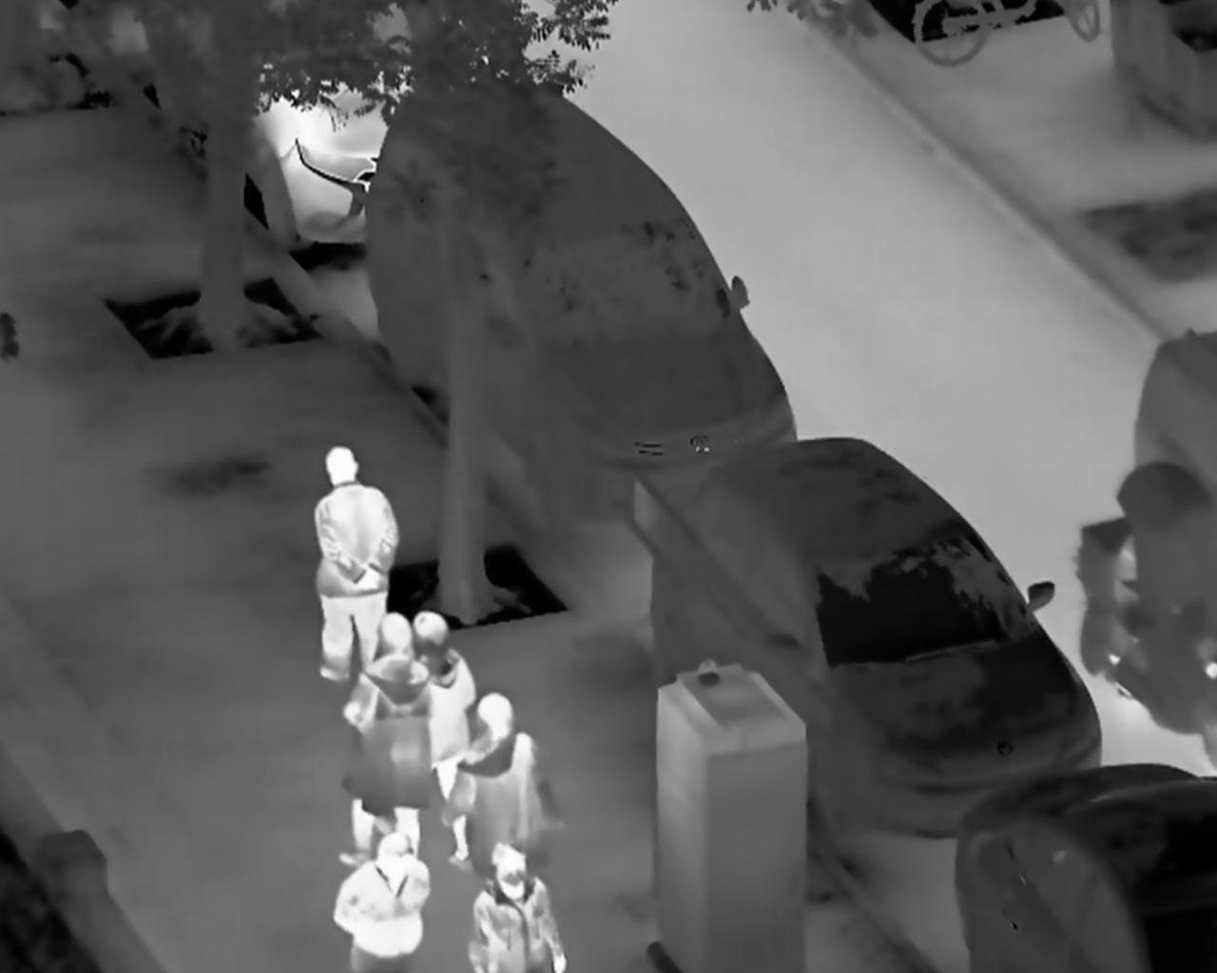person: (437, 690, 569, 879), (341, 613, 435, 868), (313, 446, 401, 682), (331, 830, 434, 971), (464, 847, 570, 973), (411, 608, 477, 803)
